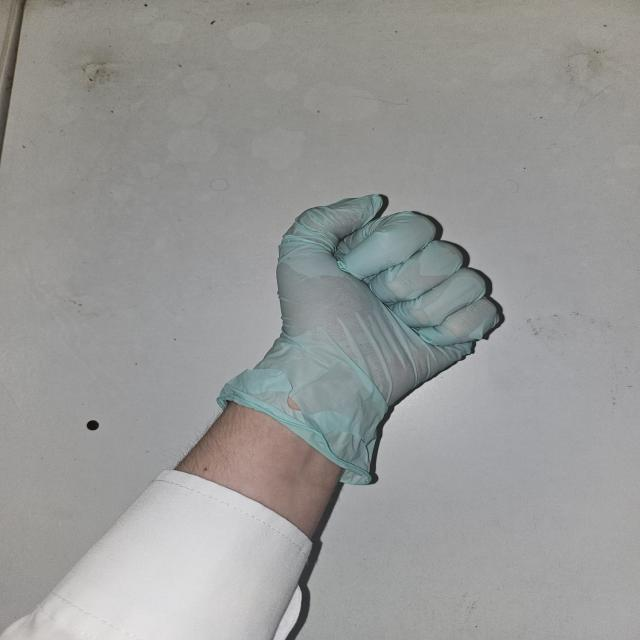gloves_damaged: (215, 192, 505, 485)
